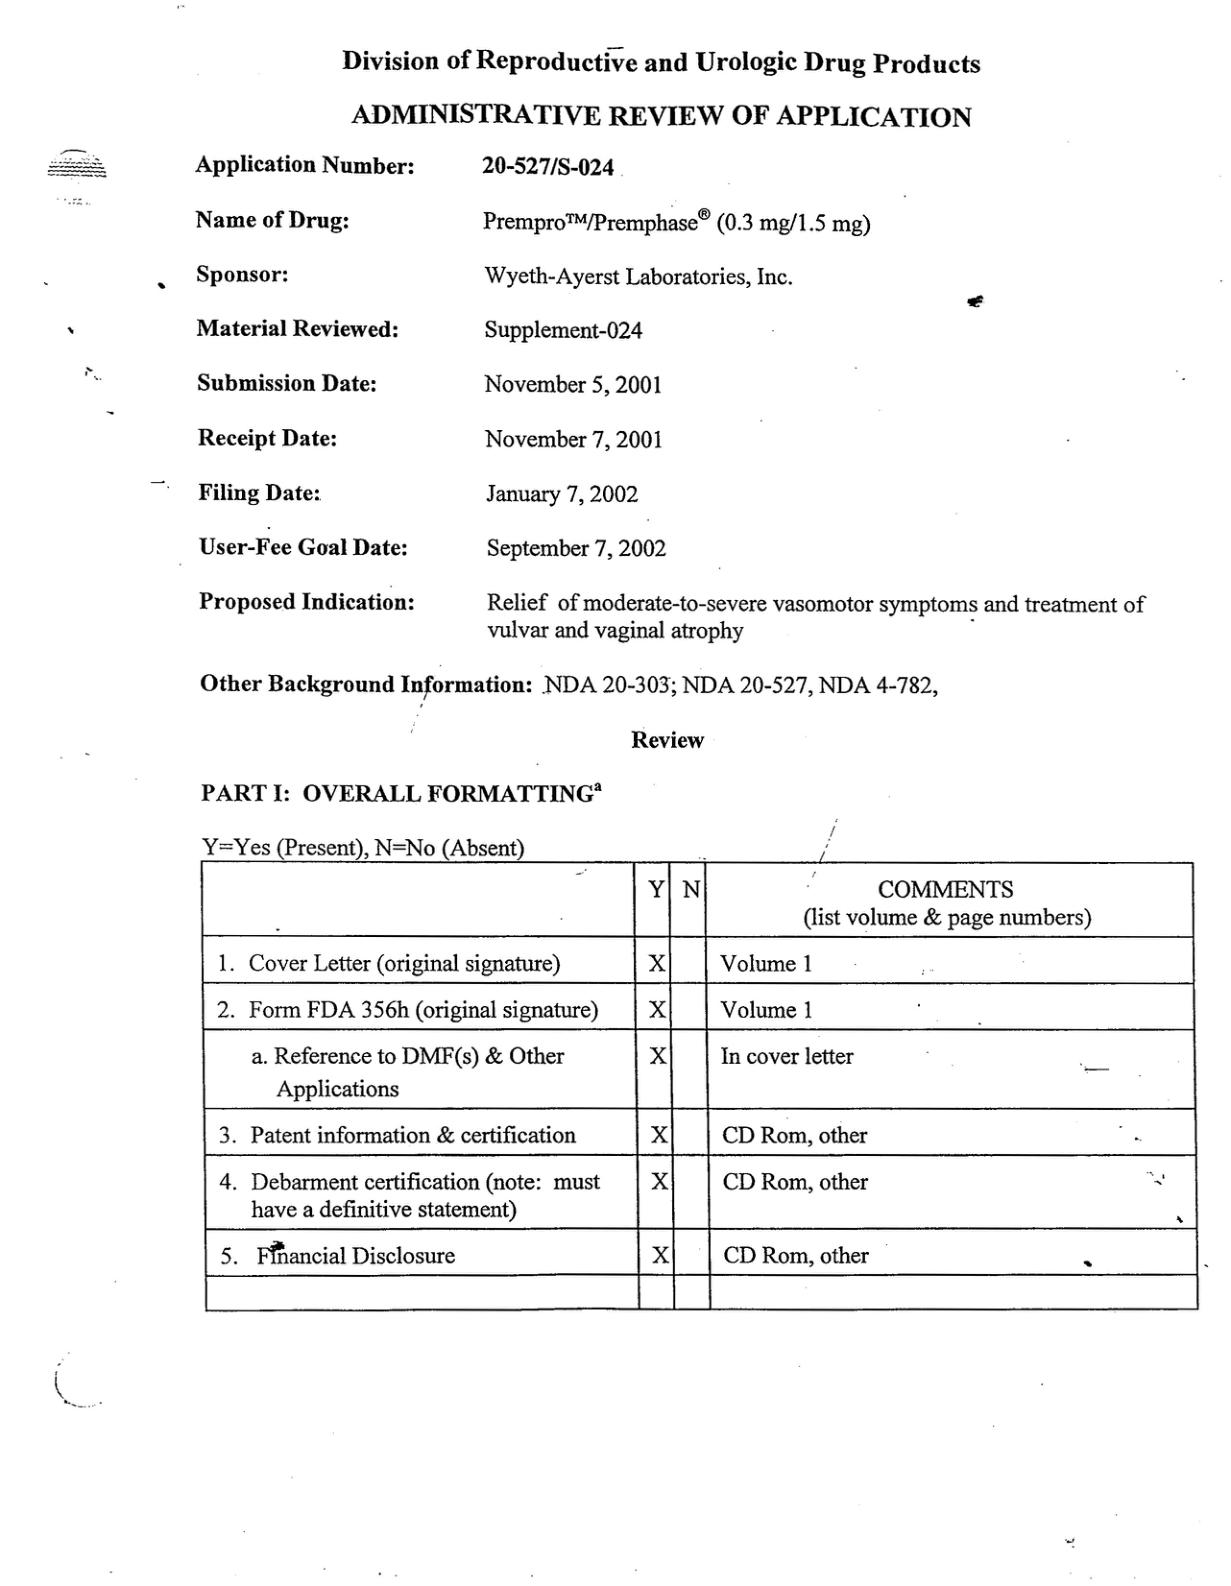full_lined: (200, 857, 1201, 1314)
nolines: (189, 151, 1151, 646)
